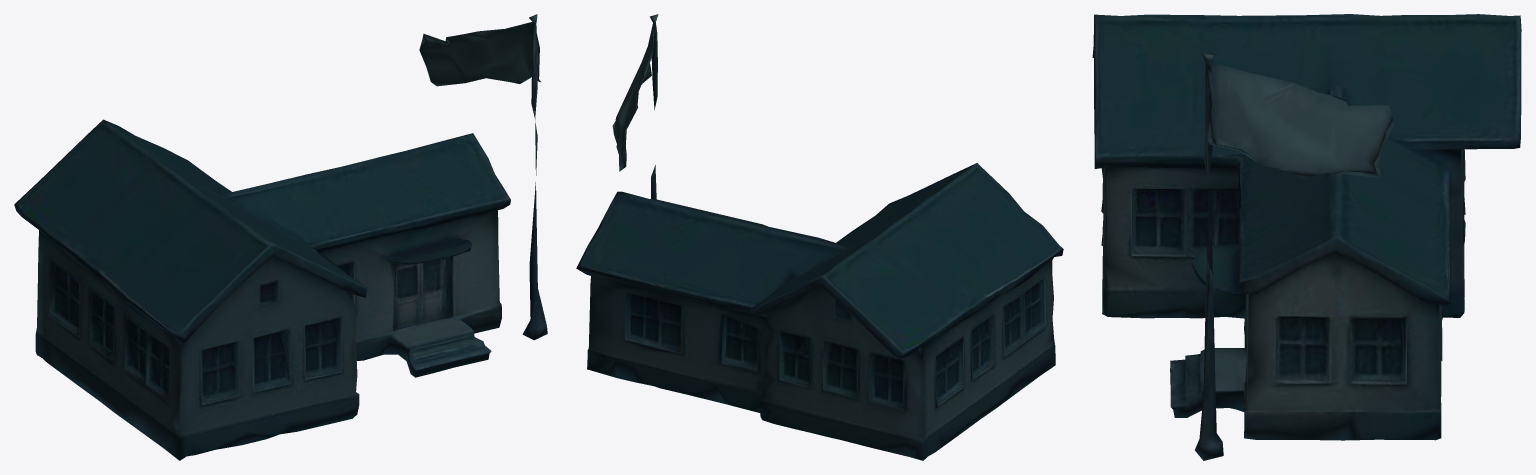
The model's file is 3d-szkola.glb.
3 views of the same model, side by side, from view 1: azimuth 30°, elevation 25°; view 2: azimuth 150°, elevation 25°; view 3: azimuth 270°, elevation 25° (orthographic). The views are drawn at different scales.
Visible parts, largest first — view 1: tripo_node_1aab9376-8c5c-4b72-86e5-317b11af7627; view 2: tripo_node_1aab9376-8c5c-4b72-86e5-317b11af7627; view 3: tripo_node_1aab9376-8c5c-4b72-86e5-317b11af7627.
Part boxes in pixels (<box>): tripo_node_1aab9376-8c5c-4b72-86e5-317b11af7627: <box>14,14,547,460</box>; tripo_node_1aab9376-8c5c-4b72-86e5-317b11af7627: <box>576,14,1063,460</box>; tripo_node_1aab9376-8c5c-4b72-86e5-317b11af7627: <box>1092,14,1521,460</box>.
Size of the model in its own units: 1 by 0.7328 by 0.7095.
Materials: 1 (1 with a texture image).
